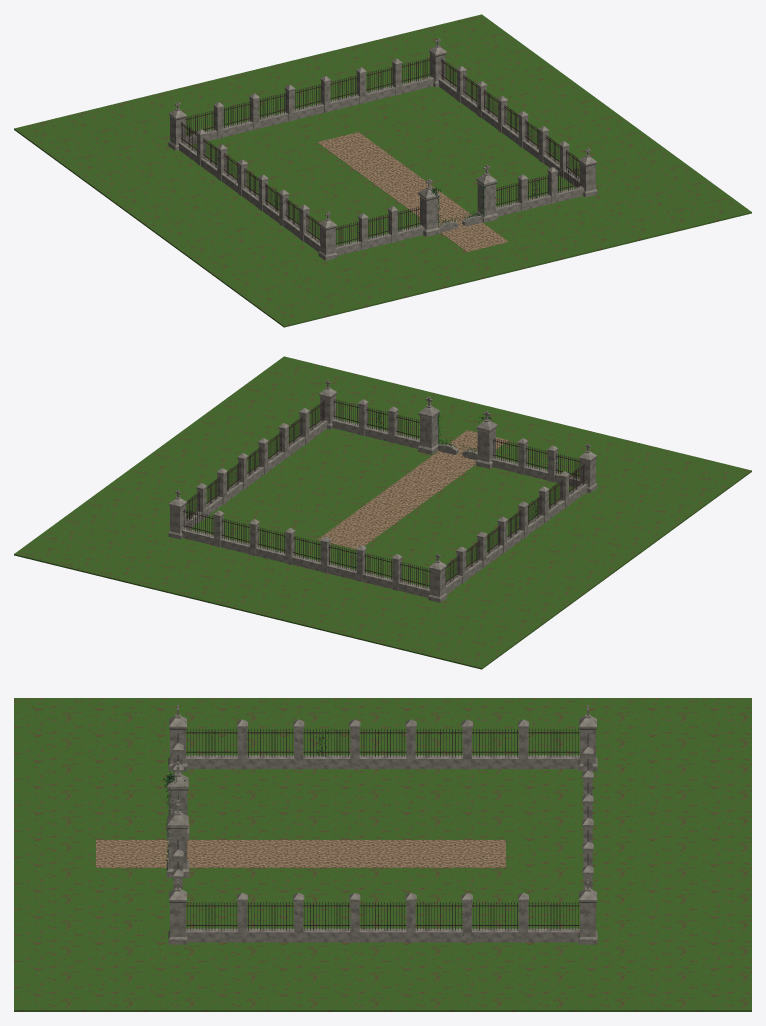
File: escenario.obj
The picture shows the model from 3 angles, top to bottom: view 1: azimuth 30°, elevation 25°; view 2: azimuth 150°, elevation 25°; view 3: azimuth 270°, elevation 25°; orthographic projection. The views are drawn at different scales.
Parts seen in each view (by area): view 1: Suelo, Camino, Cerca_Fondo_Piedra, Cerca_Izquierda_Piedra, Cerca_Derecha_Piedra, Cerca_Fondo_Hierro, Pilares_Esquina, Cerca_Izquierda_Hierro, Cerca_Derecha_Hierro, Pilares_Reja, Cerca_Frente_Der_Piedra, Cerca_Frente_Izq_Piedra (+2 smaller); view 2: Suelo, Camino, Cerca_Fondo_Piedra, Cerca_Derecha_Piedra, Cerca_Izquierda_Piedra, Cerca_Fondo_Hierro, Pilares_Esquina, Cerca_Izquierda_Hierro, Cerca_Derecha_Hierro, Pilares_Reja, Cerca_Frente_Der_Piedra, Cerca_Frente_Izq_Piedra (+2 smaller); view 3: Suelo, Camino, Cerca_Derecha_Piedra, Cerca_Izquierda_Piedra, Cerca_Izquierda_Hierro, Cerca_Derecha_Hierro, Pilares_Esquina, Pilares_Reja, Cerca_Fondo_Piedra.
Boxes of the visible parts, x1,y1,x2,y2 form: Suelo: [14, 14, 751, 327]; Camino: [317, 132, 508, 252]; Cerca_Fondo_Piedra: [186, 58, 433, 145]; Cerca_Izquierda_Piedra: [178, 129, 320, 251]; Cerca_Derecha_Piedra: [438, 66, 579, 187]; Cerca_Fondo_Hierro: [186, 57, 432, 136]; Pilares_Esquina: [168, 38, 597, 260]; Cerca_Izquierda_Hierro: [181, 121, 320, 243]; Cerca_Derecha_Hierro: [440, 58, 579, 178]; Pilares_Reja: [418, 164, 497, 236]; Cerca_Frente_Der_Piedra: [496, 167, 584, 216]; Cerca_Frente_Izq_Piedra: [336, 206, 424, 255]; Suelo: [14, 356, 751, 669]; Camino: [317, 430, 508, 549]; Cerca_Fondo_Piedra: [181, 510, 429, 597]; Cerca_Derecha_Piedra: [186, 408, 327, 529]; Cerca_Izquierda_Piedra: [445, 471, 587, 593]; Cerca_Fondo_Hierro: [183, 509, 429, 589]; Pilares_Esquina: [168, 380, 597, 602]; Cerca_Izquierda_Hierro: [445, 463, 584, 585]; Cerca_Derecha_Hierro: [186, 400, 325, 520]; Pilares_Reja: [418, 397, 497, 468]; Cerca_Frente_Der_Piedra: [332, 399, 419, 448]; Cerca_Frente_Izq_Piedra: [491, 438, 579, 487]; Suelo: [14, 698, 751, 1011]; Camino: [96, 840, 505, 867]; Cerca_Derecha_Piedra: [186, 893, 579, 942]; Cerca_Izquierda_Piedra: [186, 719, 579, 769]; Cerca_Izquierda_Hierro: [186, 729, 579, 757]; Cerca_Derecha_Hierro: [186, 902, 579, 930]; Pilares_Esquina: [168, 705, 597, 944]; Pilares_Reja: [166, 761, 189, 877]; Cerca_Fondo_Piedra: [582, 747, 593, 889].
Bounding box in the file's own units: 36 × 4.05 × 36.
5 materials, 5 textured.
